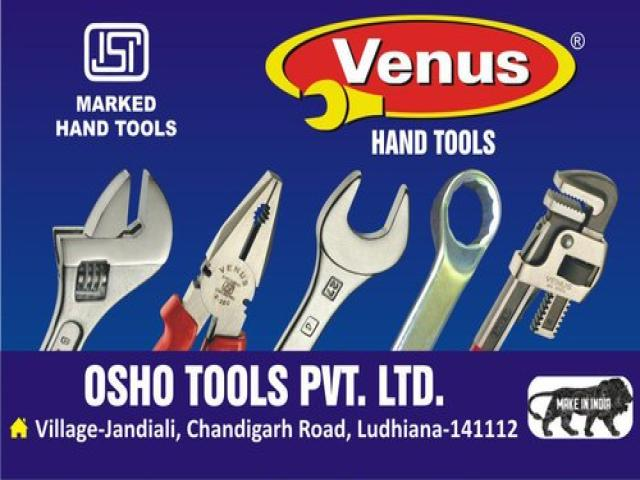Adjustable spanner: (40, 171, 171, 351)
Pliers: (152, 171, 282, 353)
Wrench: (278, 171, 409, 350), (393, 169, 500, 352), (304, 79, 383, 130)
